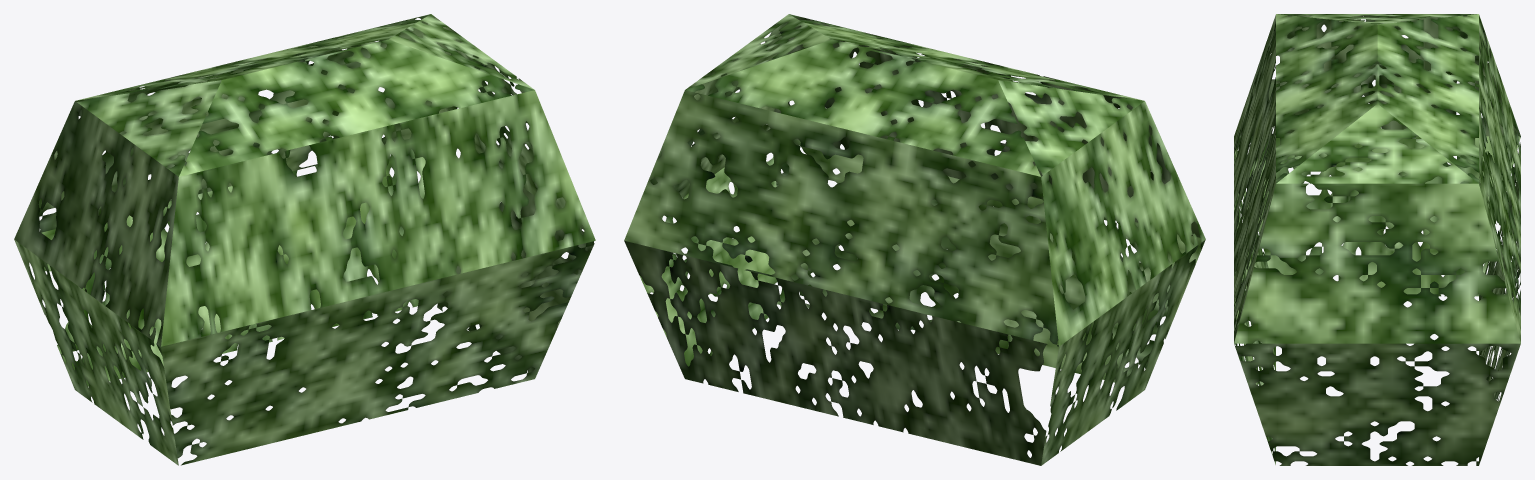
File: bush_long_half_single_summer.fbx
3 renders of one model, left to right at view 1: azimuth 30°, elevation 25°; view 2: azimuth 150°, elevation 25°; view 3: azimuth 270°, elevation 25°, orthographic. The views are drawn at different scales.
Parts seen in each view (by area): view 1: bush_long_half_single_summer; view 2: bush_long_half_single_summer; view 3: bush_long_half_single_summer.
Boxes of the visible parts, bbox=[...] form: bush_long_half_single_summer: bbox=[14, 14, 595, 465]; bush_long_half_single_summer: bbox=[624, 14, 1205, 465]; bush_long_half_single_summer: bbox=[1234, 14, 1520, 465].
Size of the model in its own units: 123 by 87.65 by 71.91.
Materials: 1 (1 with a texture image).
